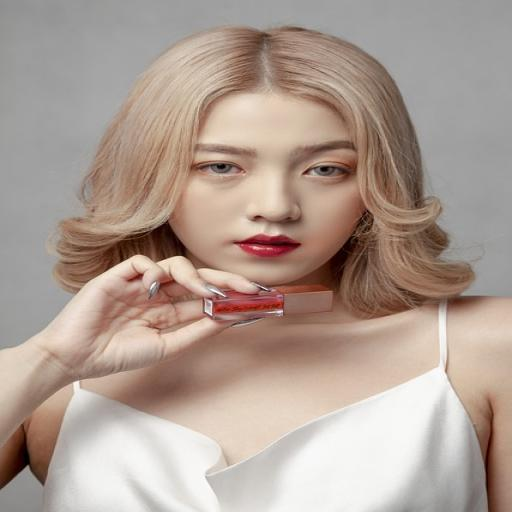lipstick: (203, 285, 333, 319), (237, 235, 300, 257)
